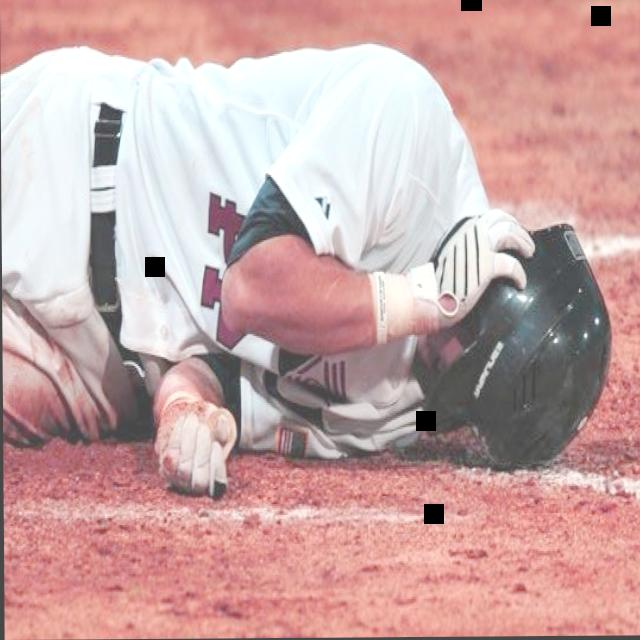Fall-Detected: (0, 8, 627, 504)
